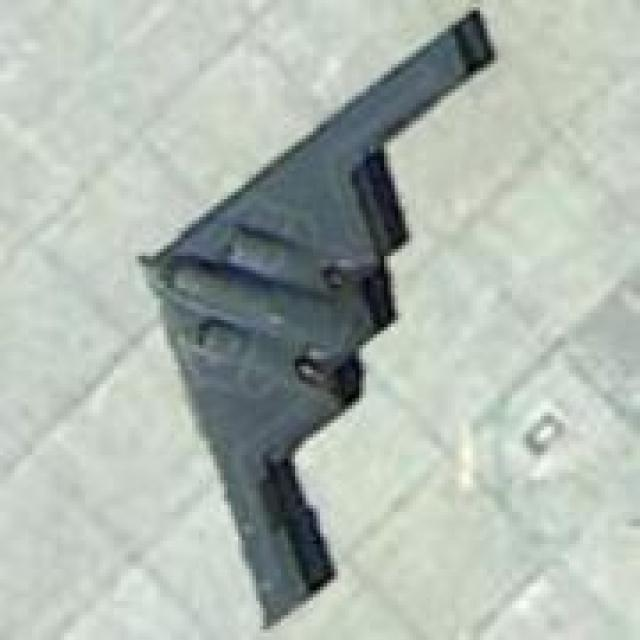B-2_TopDown: (132, 3, 498, 630)
